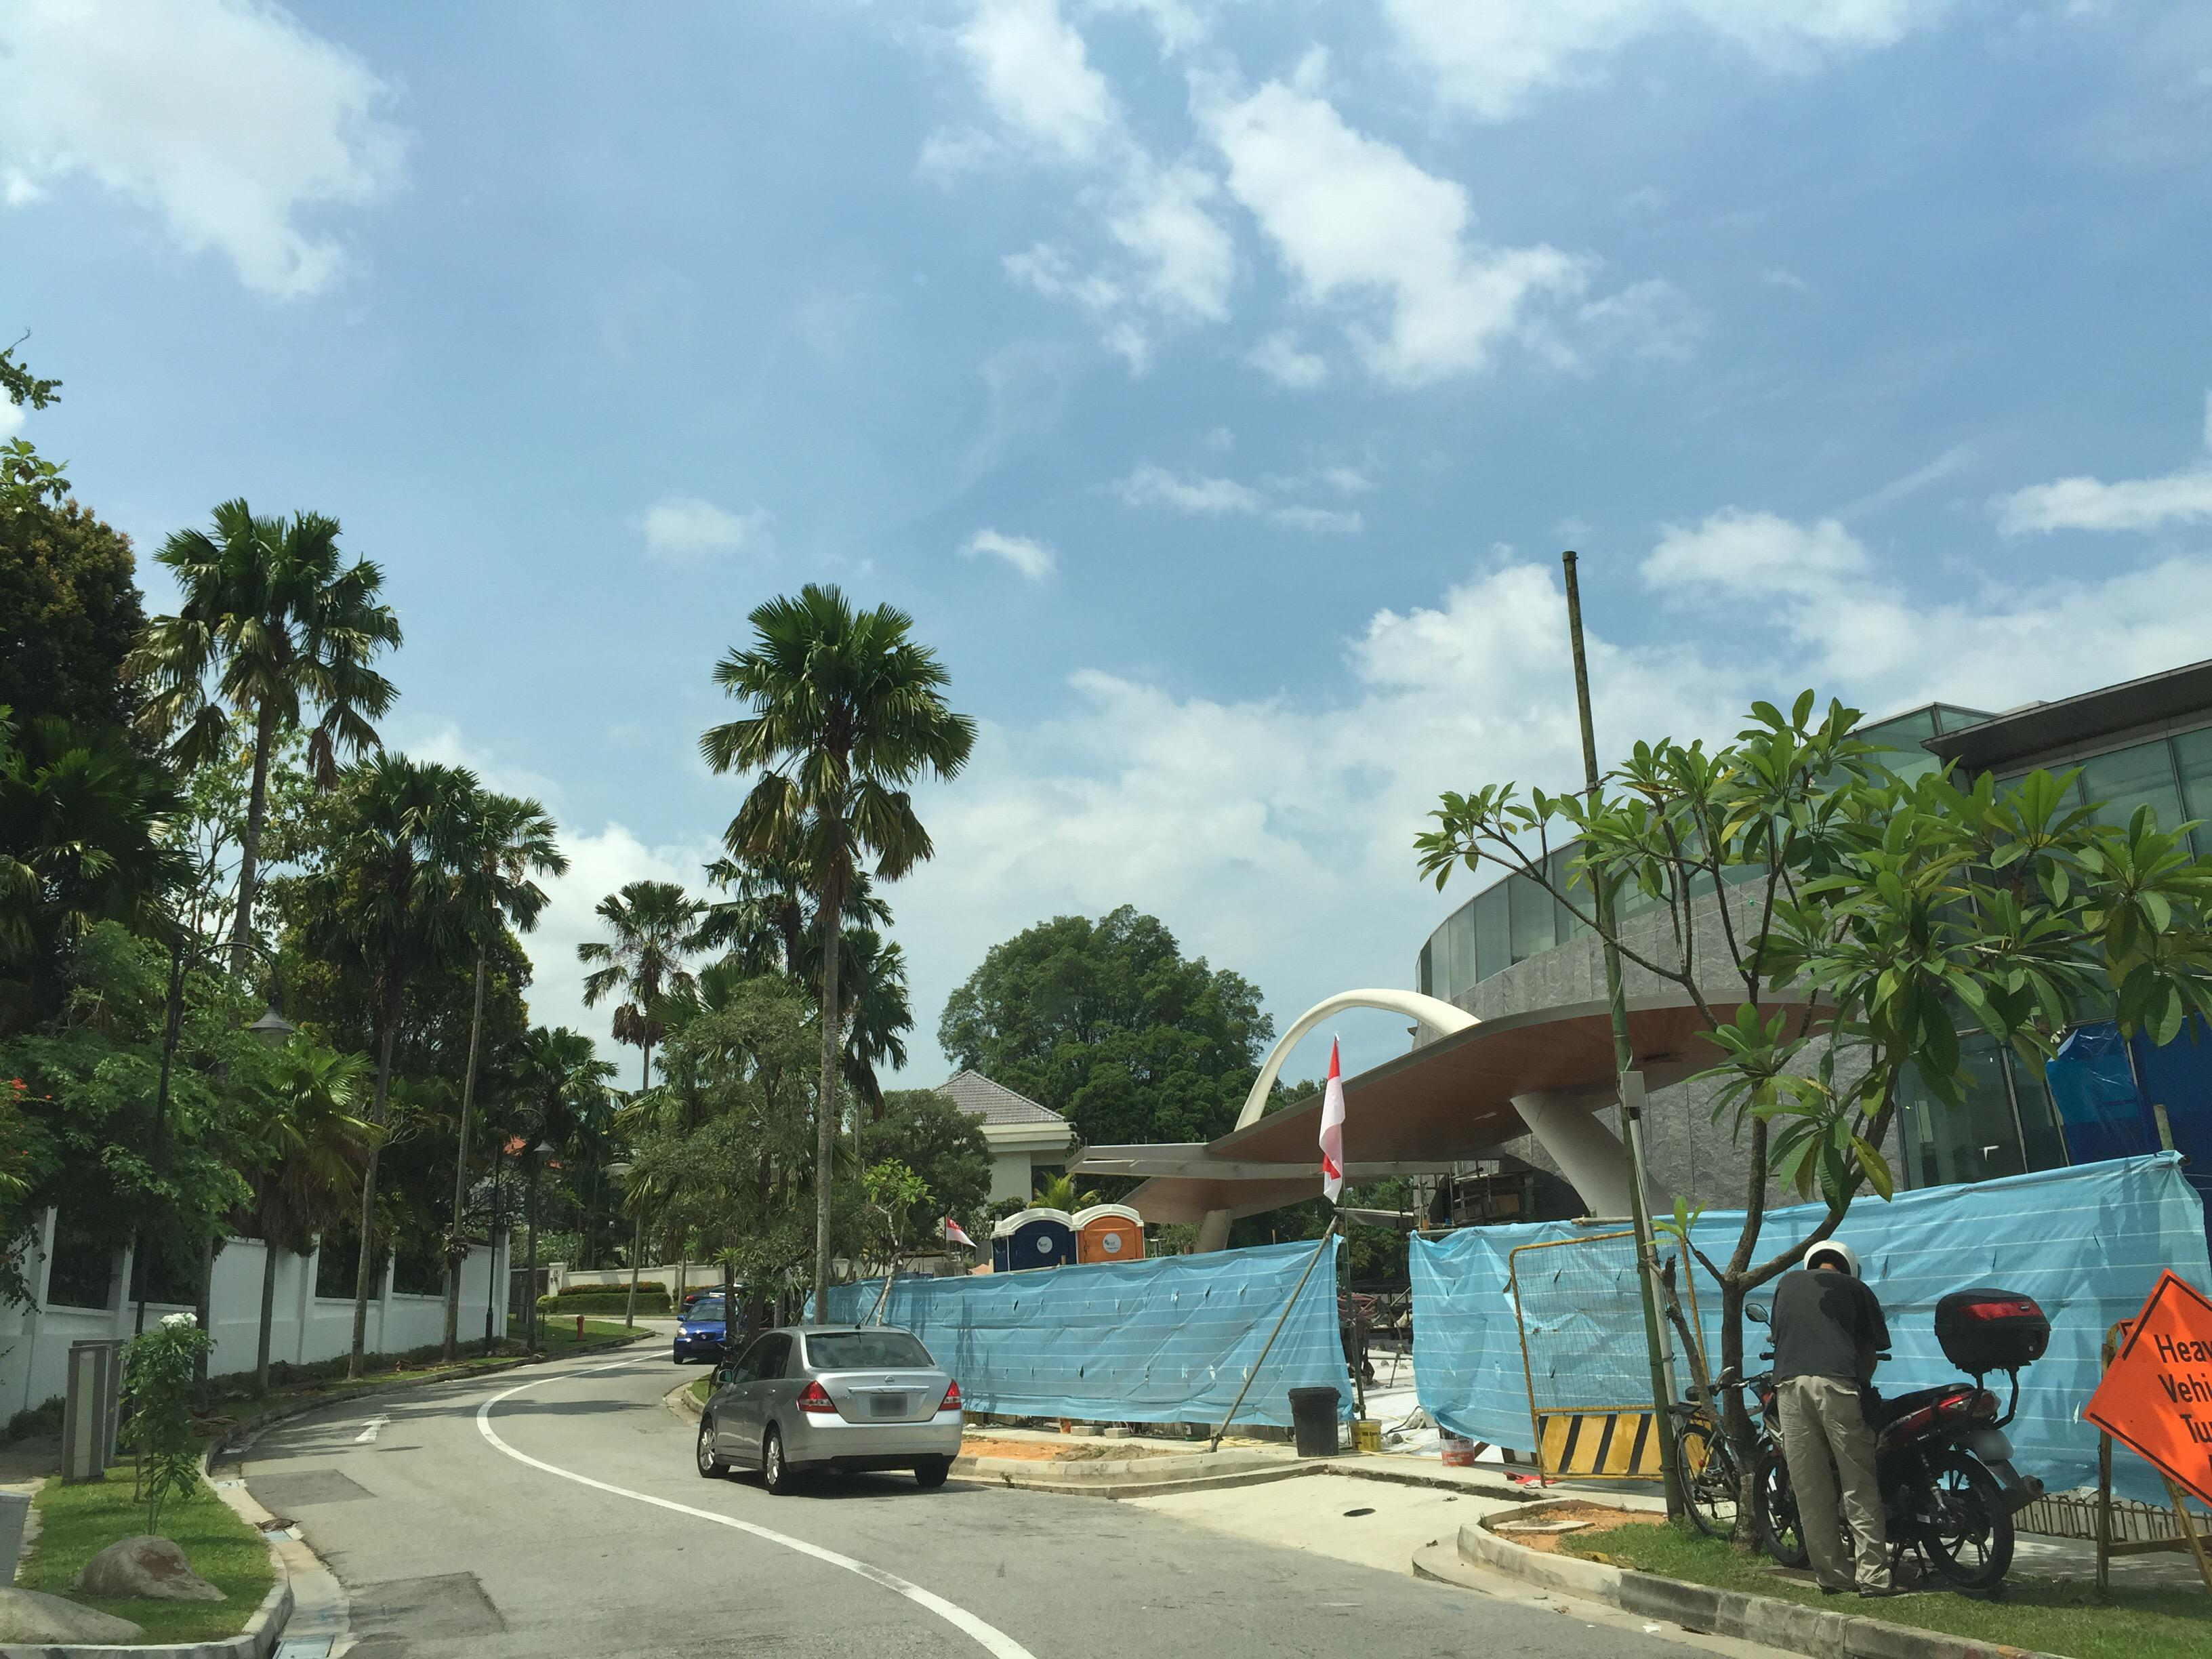vinyl banner: (1397, 1145, 2212, 1448), (808, 1249, 1367, 1434)
